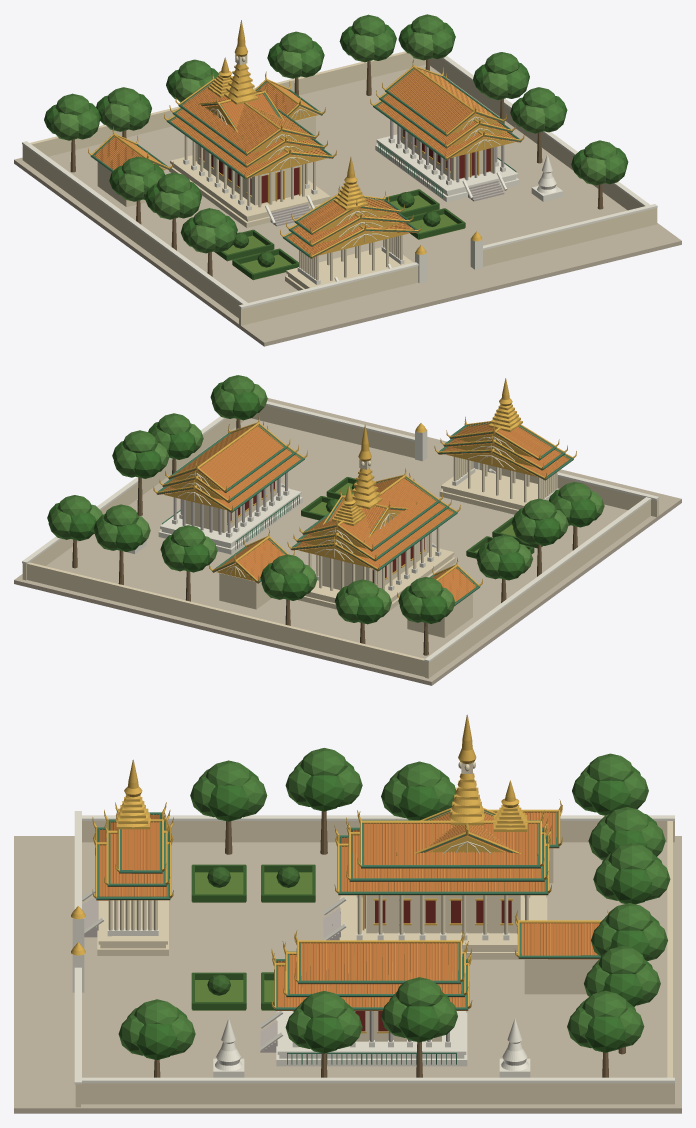
Rendered from royal-palace-ultra.glb.
The picture shows the model from 3 angles, top to bottom: view 1: azimuth 30°, elevation 25°; view 2: azimuth 150°, elevation 25°; view 3: azimuth 270°, elevation 25°; orthographic projection. The views are drawn at different scales.
Parts seen in each view (by area): view 1: Courtyard paving, Warm ivory plaster, Orange glazed tile, Canopy 1, Gilded ochre ornament, Sunlit tile ribs, Lime white mouldings, Canopy 2, Green roof borders, Canopy 0, Clipped hedges, Warm grey marble (+3 smaller); view 2: Courtyard paving, Warm ivory plaster, Canopy 1, Orange glazed tile, Gilded ochre ornament, Sunlit tile ribs, Canopy 0, Lime white mouldings, Green roof borders, Canopy 2, Tree trunks, Warm grey marble (+1 smaller); view 3: Courtyard paving, Warm ivory plaster, Canopy 1, Orange glazed tile, Lime white mouldings, Canopy 0, Sunlit tile ribs, Gilded ochre ornament, Green roof borders, Clipped hedges, Formal lawns, Warm grey marble (+2 smaller).
Boxes of the visible parts, x1,y1,x2,y2 form: Courtyard paving: (14, 64, 681, 346); Warm ivory plaster: (22, 51, 657, 325); Orange glazed tile: (94, 69, 520, 258); Canopy 1: (55, 14, 626, 252); Gilded ochre ornament: (88, 20, 524, 257); Sunlit tile ribs: (94, 69, 515, 254); Lime white mouldings: (22, 55, 657, 309); Canopy 2: (51, 32, 606, 253); Green roof borders: (90, 68, 521, 258); Canopy 0: (44, 22, 628, 246); Clipped hedges: (214, 189, 465, 279); Warm grey marble: (270, 120, 504, 226); Courtyard paving: (14, 398, 681, 685); Warm ivory plaster: (22, 405, 658, 678); Canopy 1: (48, 375, 592, 622); Orange glazed tile: (157, 425, 569, 601); Gilded ochre ornament: (153, 378, 576, 597); Sunlit tile ribs: (162, 423, 569, 601); Canopy 0: (47, 382, 596, 624); Lime white mouldings: (22, 401, 659, 662); Green roof borders: (156, 422, 573, 606); Canopy 2: (90, 384, 604, 617); Tree trunks: (72, 419, 577, 655); Warm grey marble: (173, 472, 287, 534); Courtyard paving: (14, 836, 681, 1113); Warm ivory plaster: (75, 762, 674, 1107); Canopy 1: (118, 748, 670, 1055); Orange glazed tile: (96, 812, 599, 1010); Lime white mouldings: (72, 811, 674, 1084); Canopy 0: (136, 761, 662, 1059); Sunlit tile ribs: (99, 811, 597, 1007); Gilded ochre ornament: (71, 714, 608, 1033); Green roof borders: (96, 810, 600, 1064); Clipped hedges: (191, 864, 315, 1009); Formal lawns: (192, 872, 314, 1010); Warm grey marble: (82, 897, 449, 1052).
Bounding box in the file's own units: 27 × 10.29 × 28.
